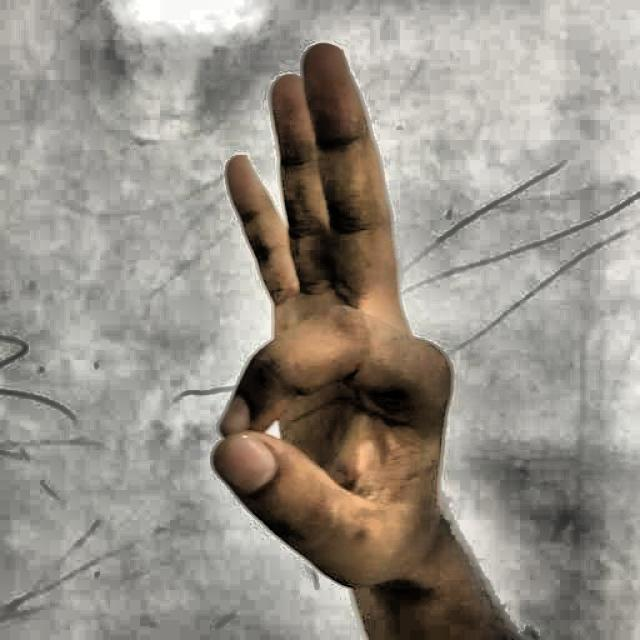Ca: (152, 62, 528, 636)
